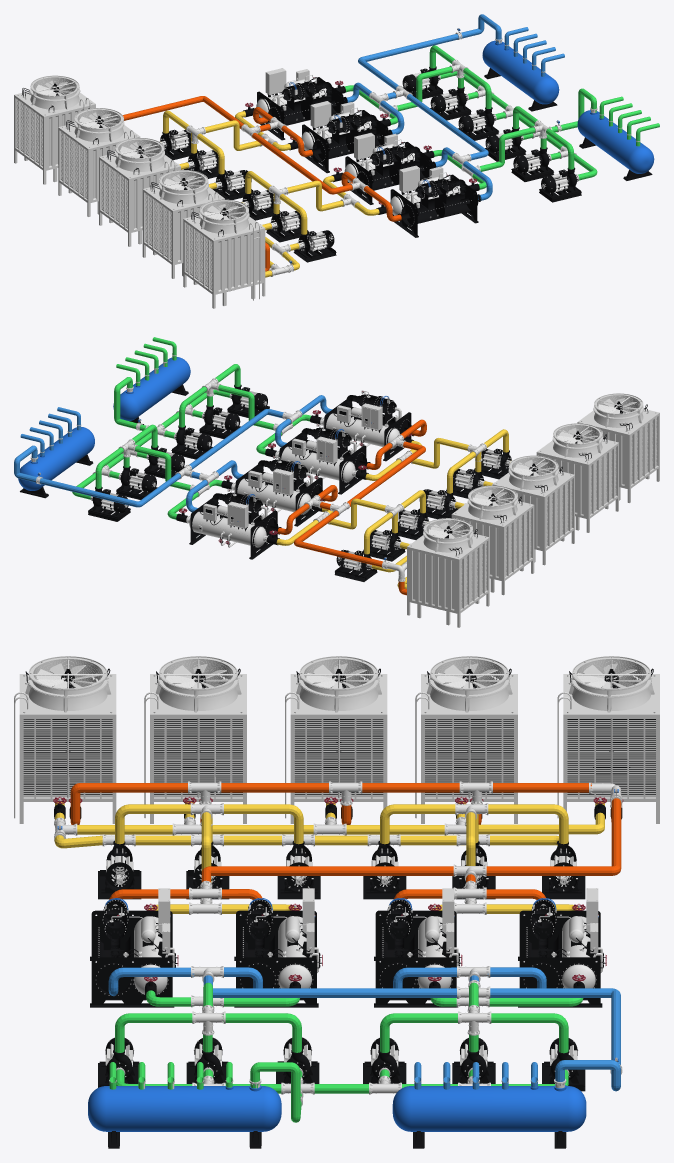
The model's file is guangzhouM-processed.glb.
3 renders of one model, top to bottom at view 1: azimuth 30°, elevation 25°; view 2: azimuth 150°, elevation 25°; view 3: azimuth 270°, elevation 25°, orthographic. The views are drawn at different scales.
Parts seen in each view (by area): view 1: 5号冷却塔, 1号冷却塔, 3号冷却塔, 4号冷却塔, 2号冷却塔, 4号主机, 2号主机, 3号主机, 1号主机, 集水器, 分水器, TUBE.124 (+20 smaller); view 2: 1号冷却塔, 2号冷却塔, 4号冷却塔, 5号冷却塔, 3号冷却塔, 1号主机, 3号主机, 2号主机, 4号主机, 分水器, 集水器, TUBE.124 (+20 smaller); view 3: 5号冷却塔, 1号冷却塔, 3号冷却塔, 4号冷却塔, 2号冷却塔, 集水器, 分水器, 4号主机, 1号主机, 2号主机, 3号主机, TUBE.124 (+41 smaller).
Boxes of the visible parts, left/top/right/bottom form: 5号冷却塔: left=183, top=199, right=265, bottom=308; 1号冷却塔: left=14, top=75, right=95, bottom=184; 3号冷却塔: left=99, top=137, right=180, bottom=246; 4号冷却塔: left=142, top=170, right=224, bottom=278; 2号冷却塔: left=58, top=108, right=140, bottom=216; 4号主机: left=390, top=165, right=481, bottom=237; 2号主机: left=301, top=101, right=392, bottom=173; 3号主机: left=342, top=133, right=436, bottom=204; 1号主机: left=254, top=68, right=347, bottom=140; 集水器: left=577, top=107, right=654, bottom=180; 分水器: left=482, top=38, right=559, bottom=111; TUBE.124: left=358, top=14, right=501, bottom=90; 1号冷却塔: left=407, top=518, right=489, bottom=627; 2号冷却塔: left=451, top=485, right=534, bottom=595; 4号冷却塔: left=536, top=423, right=618, bottom=532; 5号冷却塔: left=577, top=393, right=659, bottom=502; 3号冷却塔: left=492, top=455, right=574, bottom=565; 1号主机: left=186, top=488, right=281, bottom=559; 3号主机: left=275, top=423, right=370, bottom=494; 2号主机: left=231, top=455, right=324, bottom=526; 4号主机: left=320, top=390, right=413, bottom=461; 分水器: left=18, top=424, right=94, bottom=498; 集水器: left=113, top=354, right=190, bottom=424; TUBE.124: left=14, top=445, right=180, bottom=507; 5号冷却塔: left=14, top=656, right=116, bottom=823; 1号冷却塔: left=557, top=656, right=659, bottom=823; 3号冷却塔: left=285, top=656, right=387, bottom=823; 4号冷却塔: left=144, top=656, right=246, bottom=823; 2号冷却塔: left=415, top=656, right=517, bottom=823; 集水器: left=88, top=1078, right=281, bottom=1148; 分水器: left=392, top=1079, right=586, bottom=1148; 4号主机: left=90, top=888, right=178, bottom=1007; 1号主机: left=518, top=888, right=606, bottom=1007; 2号主机: left=374, top=888, right=462, bottom=1007; 3号主机: left=234, top=888, right=322, bottom=1007; TUBE.124: left=490, top=988, right=620, bottom=1091.
Bounding box in the file's own units: 18.26 × 3.08 × 13.42.
